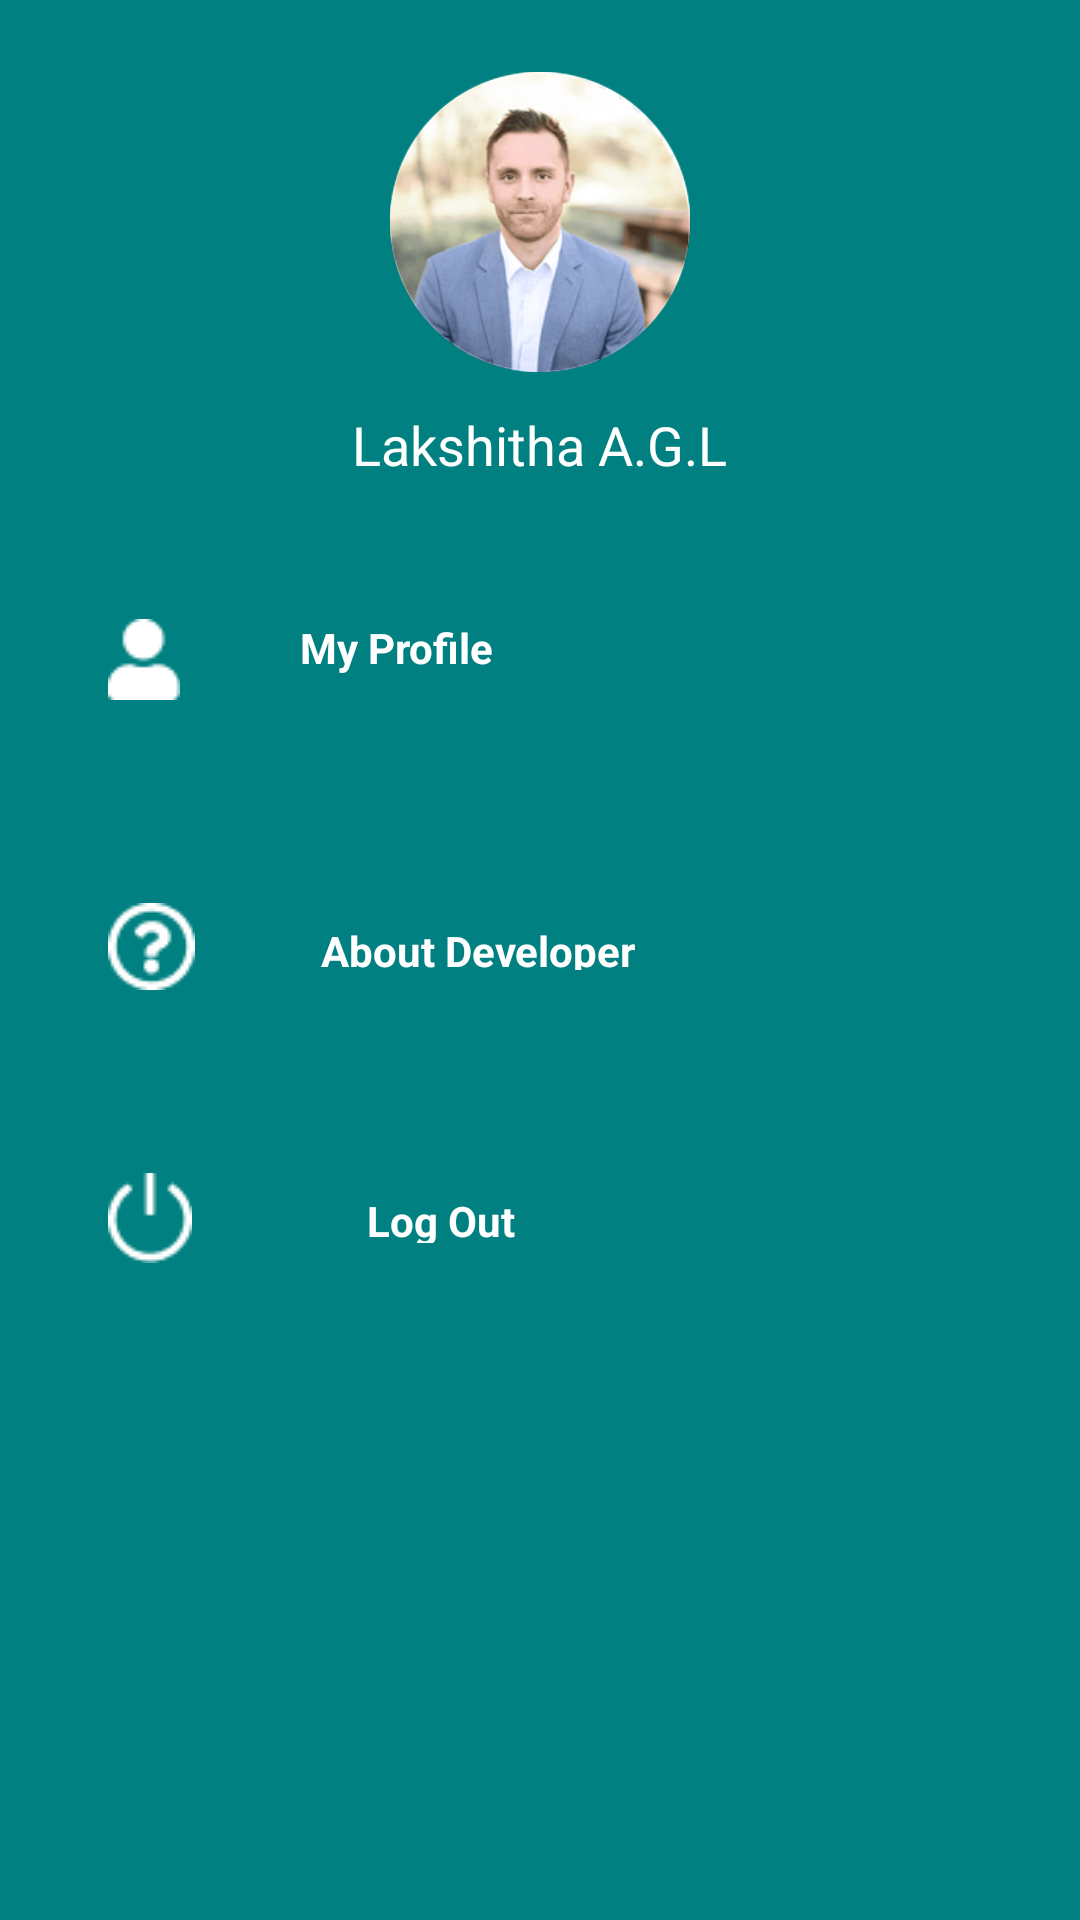

Named icons in this screenshot (1080px x 1920px) and their bounding boxes, bbox=[x1, y1, x2, y2]:
profile picture: bbox=[390, 72, 690, 372]
